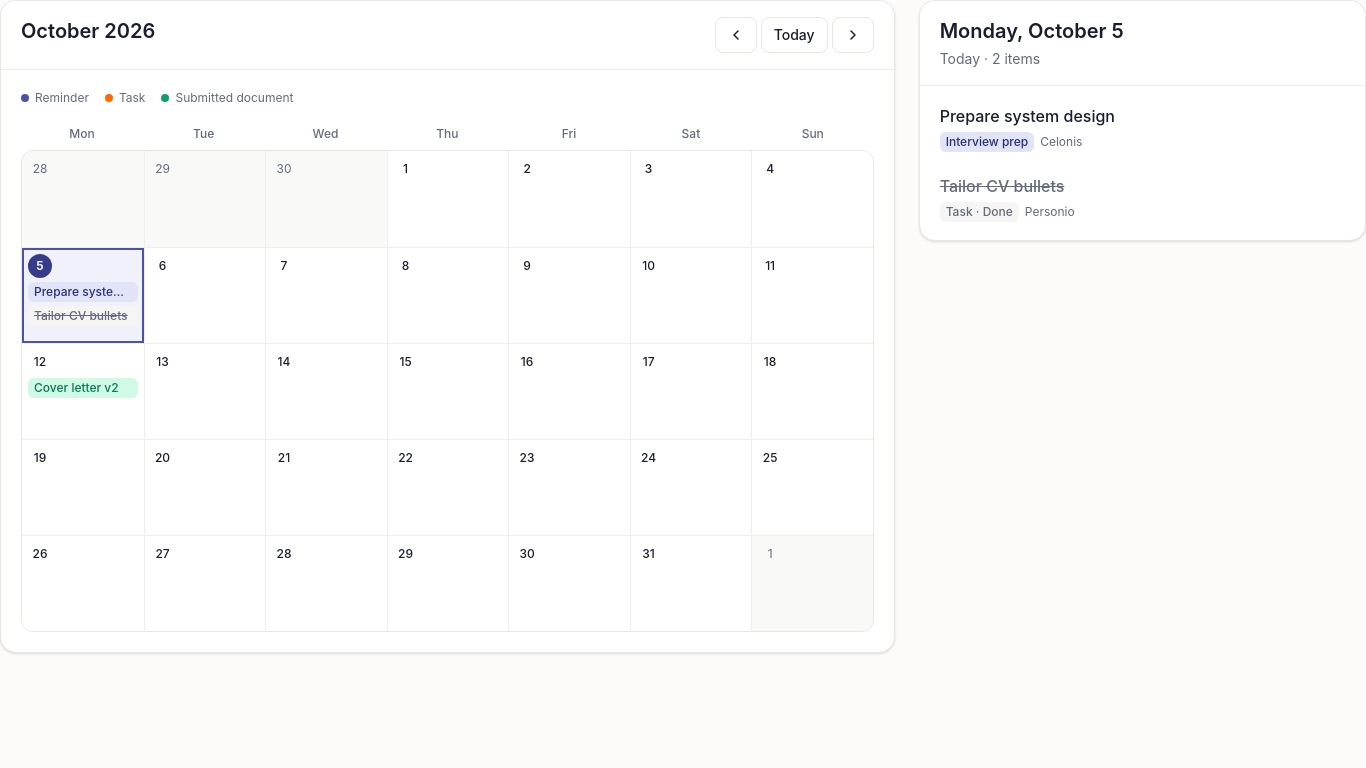
CalendarPage › says when the chosen day has nothing on it
The width and height of the screenshot is (1366, 768).
Click the button named "Tuesday, October 6, no items". click: (204, 295)
box: 144,247 -> 265,343
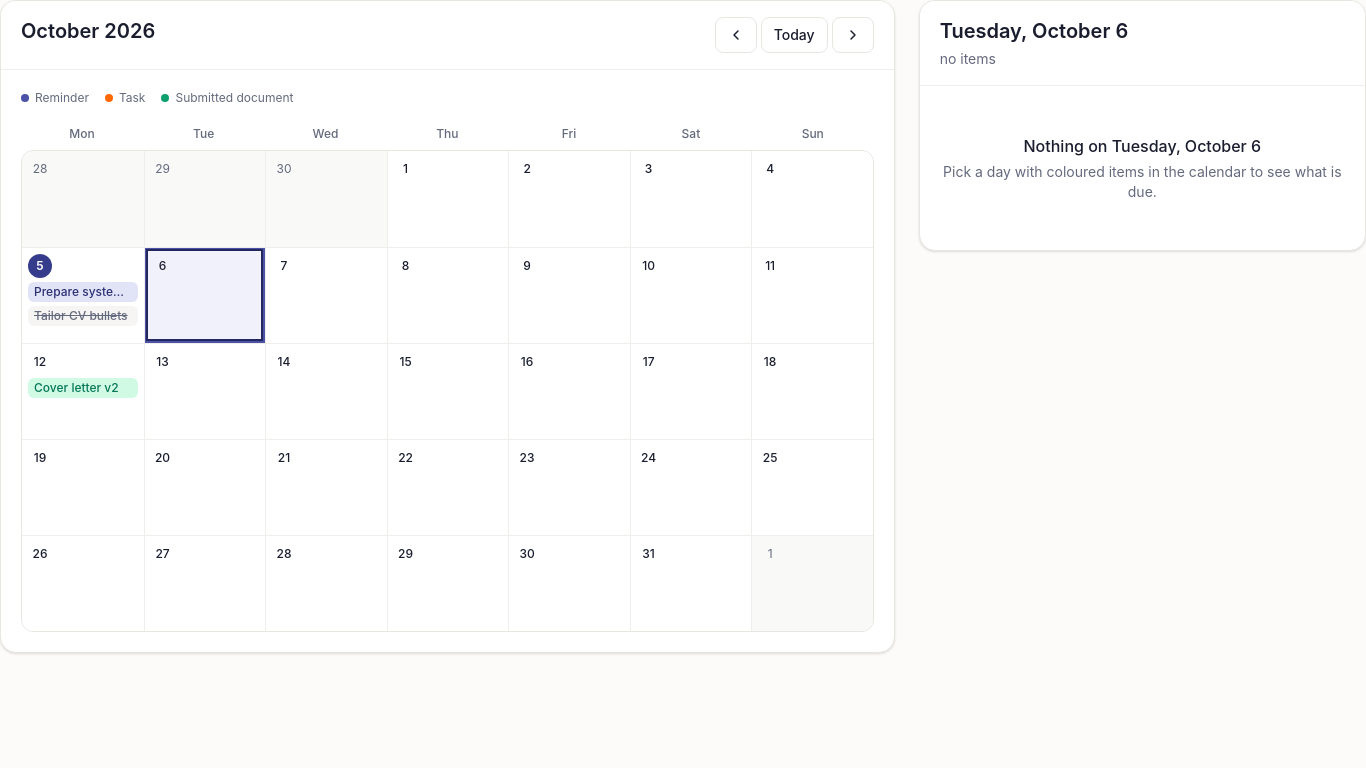
Result: the text "Nothing on Tuesday, October 6" is shown at 1024,134 -> 1261,158
